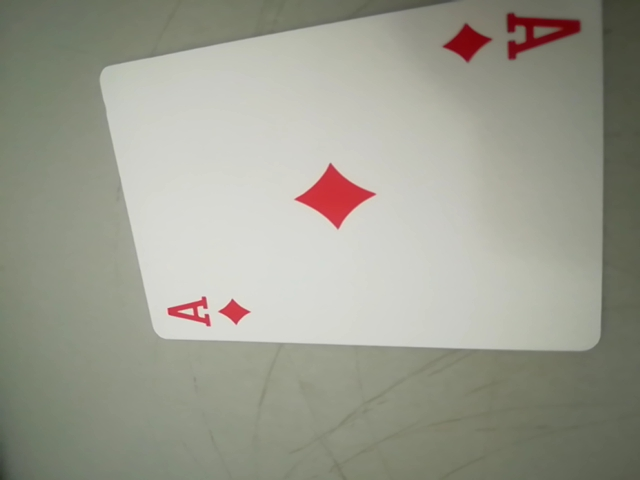fk a: (436, 2, 582, 68), (161, 289, 254, 334)
